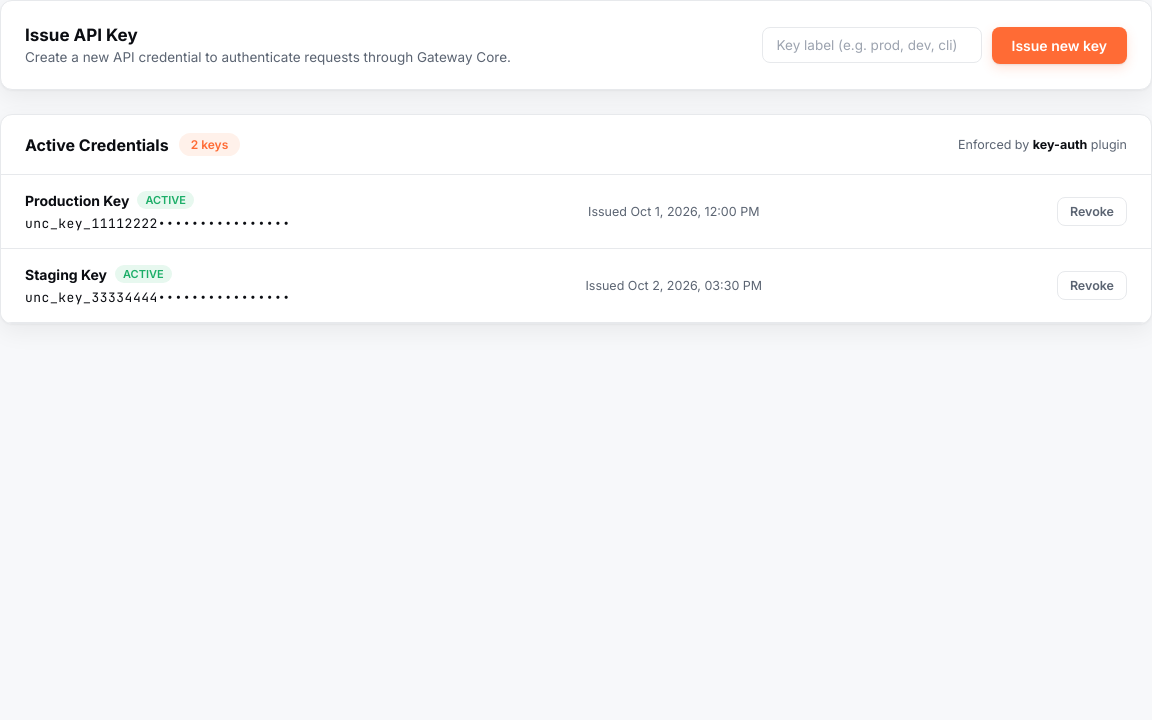
Scenario: ApiKeyManager Component › issuing a key appends newly returned masked key to list and never renders raw value after initial issuance response is dismissed
The image size is (1152, 720).
What coordinates should you click on to do the following:
click the button with test id "issue-key-btn"
I would click on:
 (1059, 45)
Its box is [992,26,1127,64].
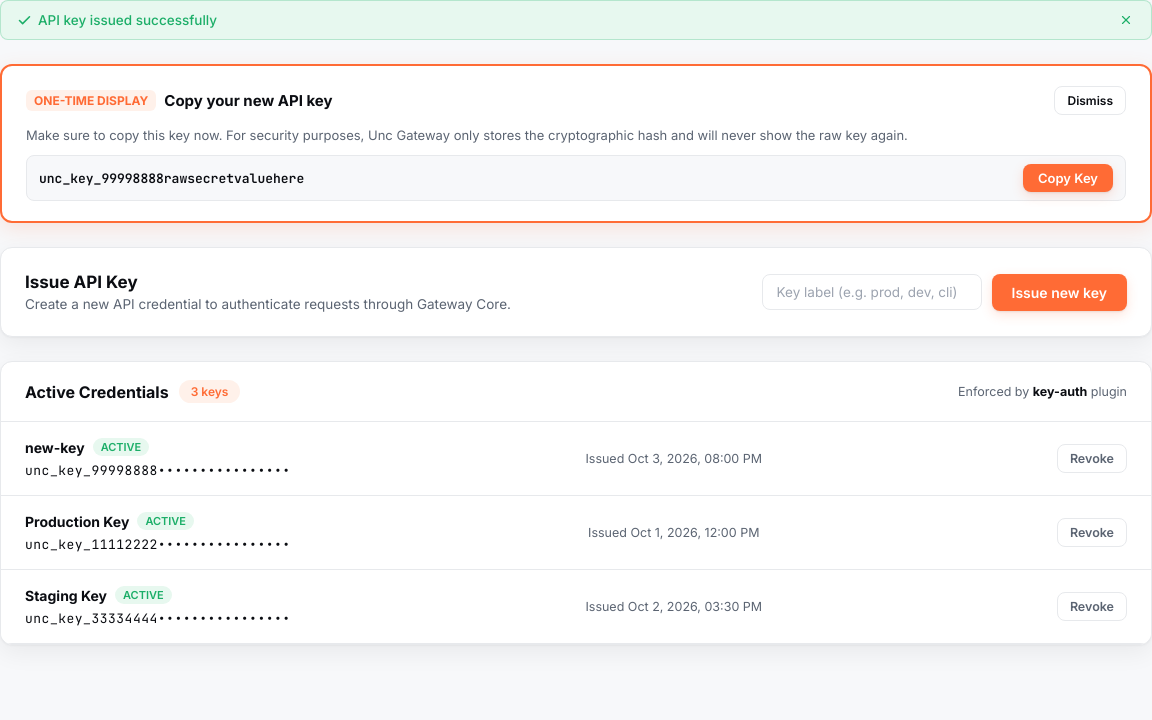
Expected: the element with test id "new-key-toast" is shown, [0,64,1151,223]
Expected: the text with test id "raw-key-value" reads "unc_key_99998888rawsecretvaluehere", [39,170,304,186]
Expected: the number of elements with test id "masked-key" is 3, [25,462,291,479]; [25,536,291,553]; [25,610,291,627]
Dismiss the one-time raw key toast
What coordinates should you click on to do the following:
click the button with test id "dismiss-key-toast-btn"
I would click on:
 (1090, 100)
Its box is [1054,86,1126,115].
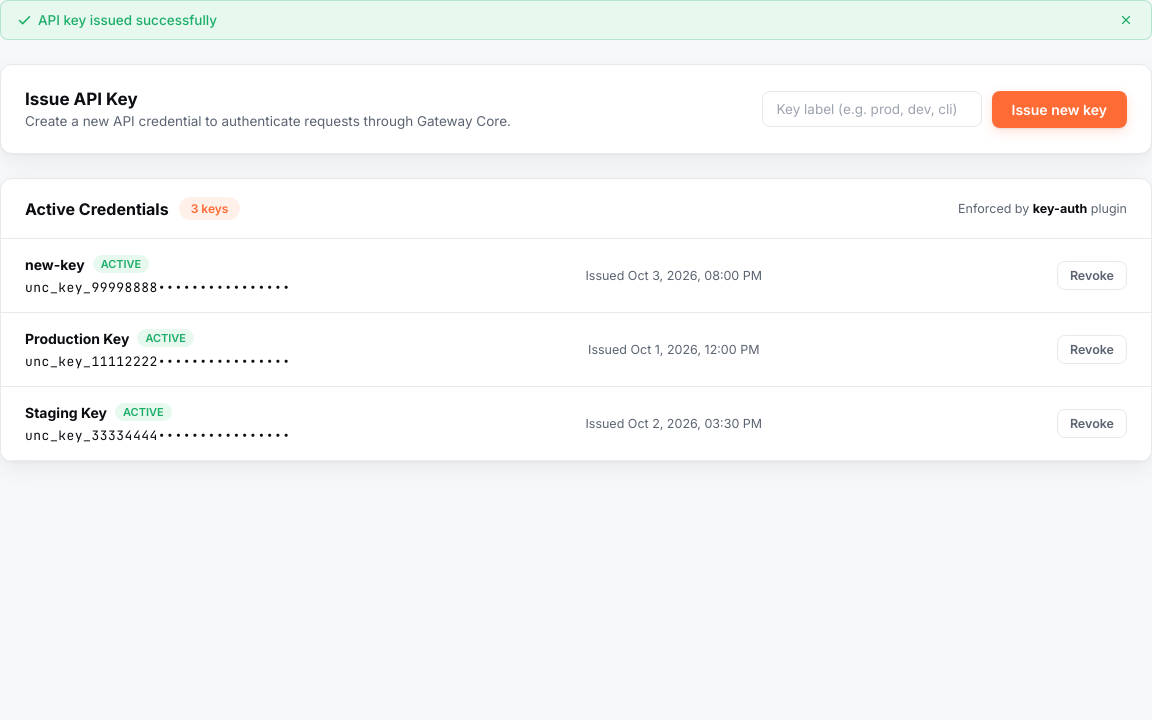
Expected: the text "new-key" is shown, [25,256,85,272]
Expected: the element with test id "new-key-toast" is gone
Expected: the text "unc_key_99998888rawsecretvaluehere" is gone
